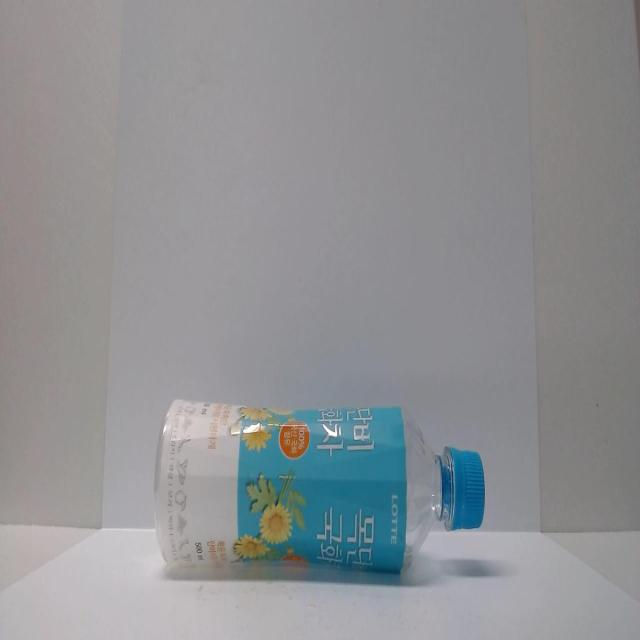bottle: (146, 371, 503, 599)
